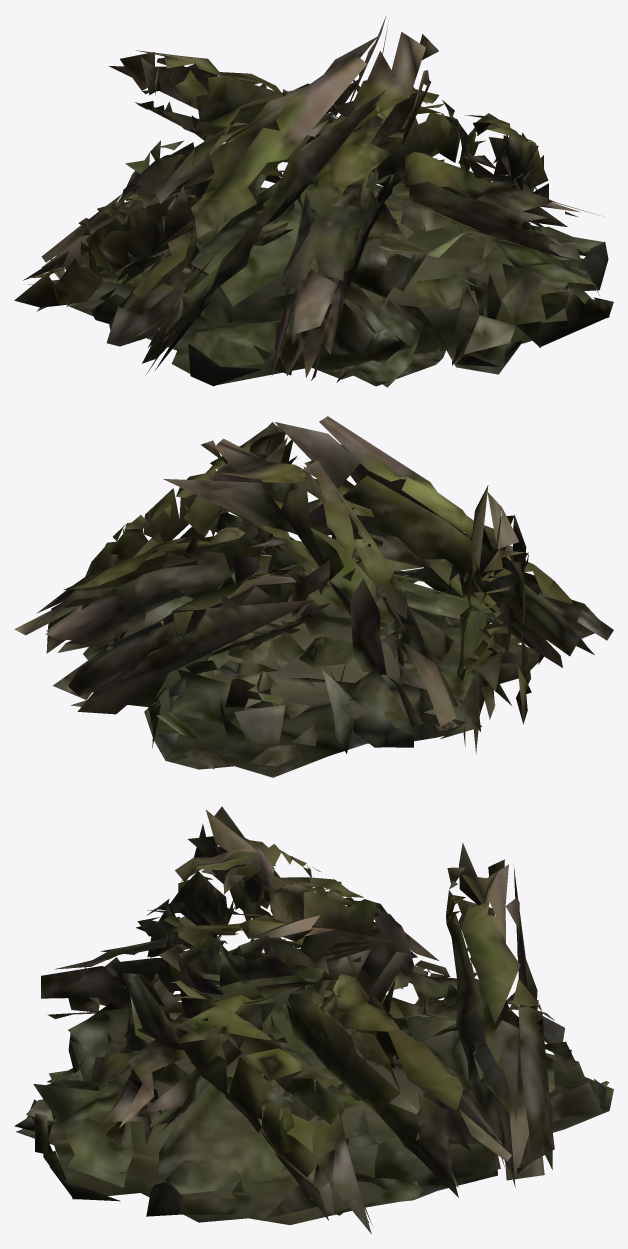
File: Mossy_Timber_Ruins_town.glb
3 views of the same model, one above another, from view 1: azimuth 30°, elevation 25°; view 2: azimuth 150°, elevation 25°; view 3: azimuth 270°, elevation 25° (orthographic). The views are drawn at different scales.
Visible parts, largest first — view 1: Mossy_Timber_Ruins; view 2: Mossy_Timber_Ruins; view 3: Mossy_Timber_Ruins.
Boxes of the visible parts, x1,y1,x2,y2 form: Mossy_Timber_Ruins: [14, 15, 613, 387]; Mossy_Timber_Ruins: [14, 416, 613, 777]; Mossy_Timber_Ruins: [14, 806, 613, 1233].
Bounding box in the file's own units: 1.87 × 0.8761 × 1.78.
1 material, 1 textured.
